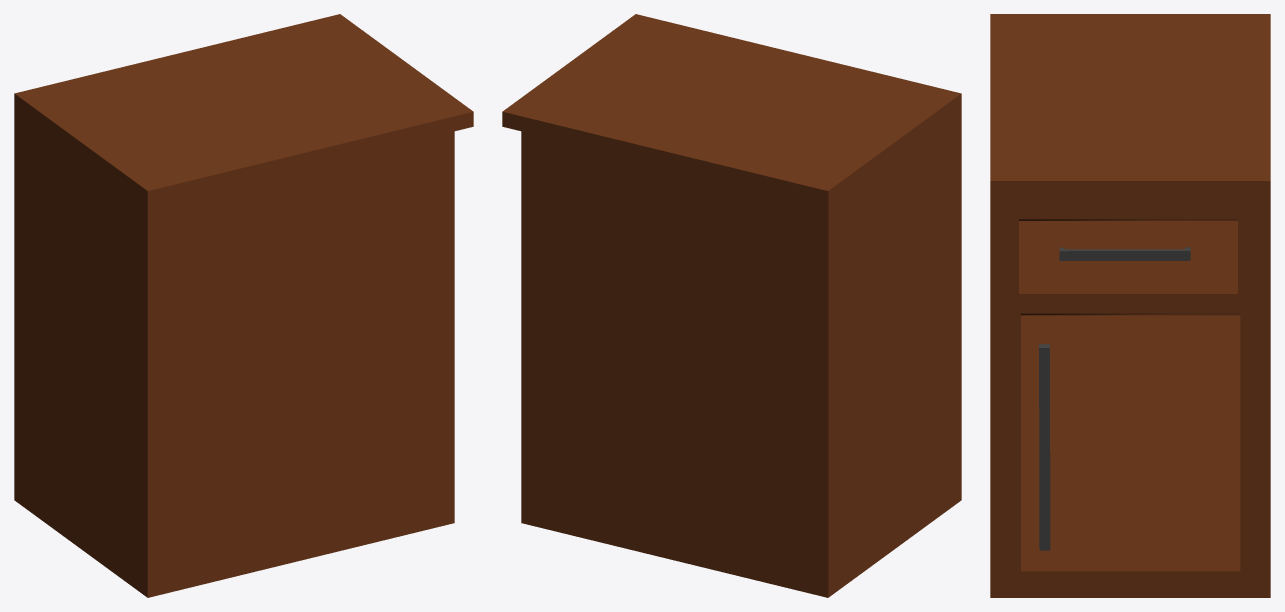
File: Drawer.fbx
3 renders of one model, left to right at view 1: azimuth 30°, elevation 25°; view 2: azimuth 150°, elevation 25°; view 3: azimuth 270°, elevation 25°, orthographic. The views are drawn at different scales.
Visible parts, largest first — view 1: KitchenDrawer; view 2: KitchenDrawer; view 3: KitchenDrawer.
Boxes of the visible parts, x1,y1,x2,y2 form: KitchenDrawer: (14,14,473,597); KitchenDrawer: (502,14,961,597); KitchenDrawer: (990,14,1270,597).
Bounding box in the file's own units: 104 × 124 × 73.9.
